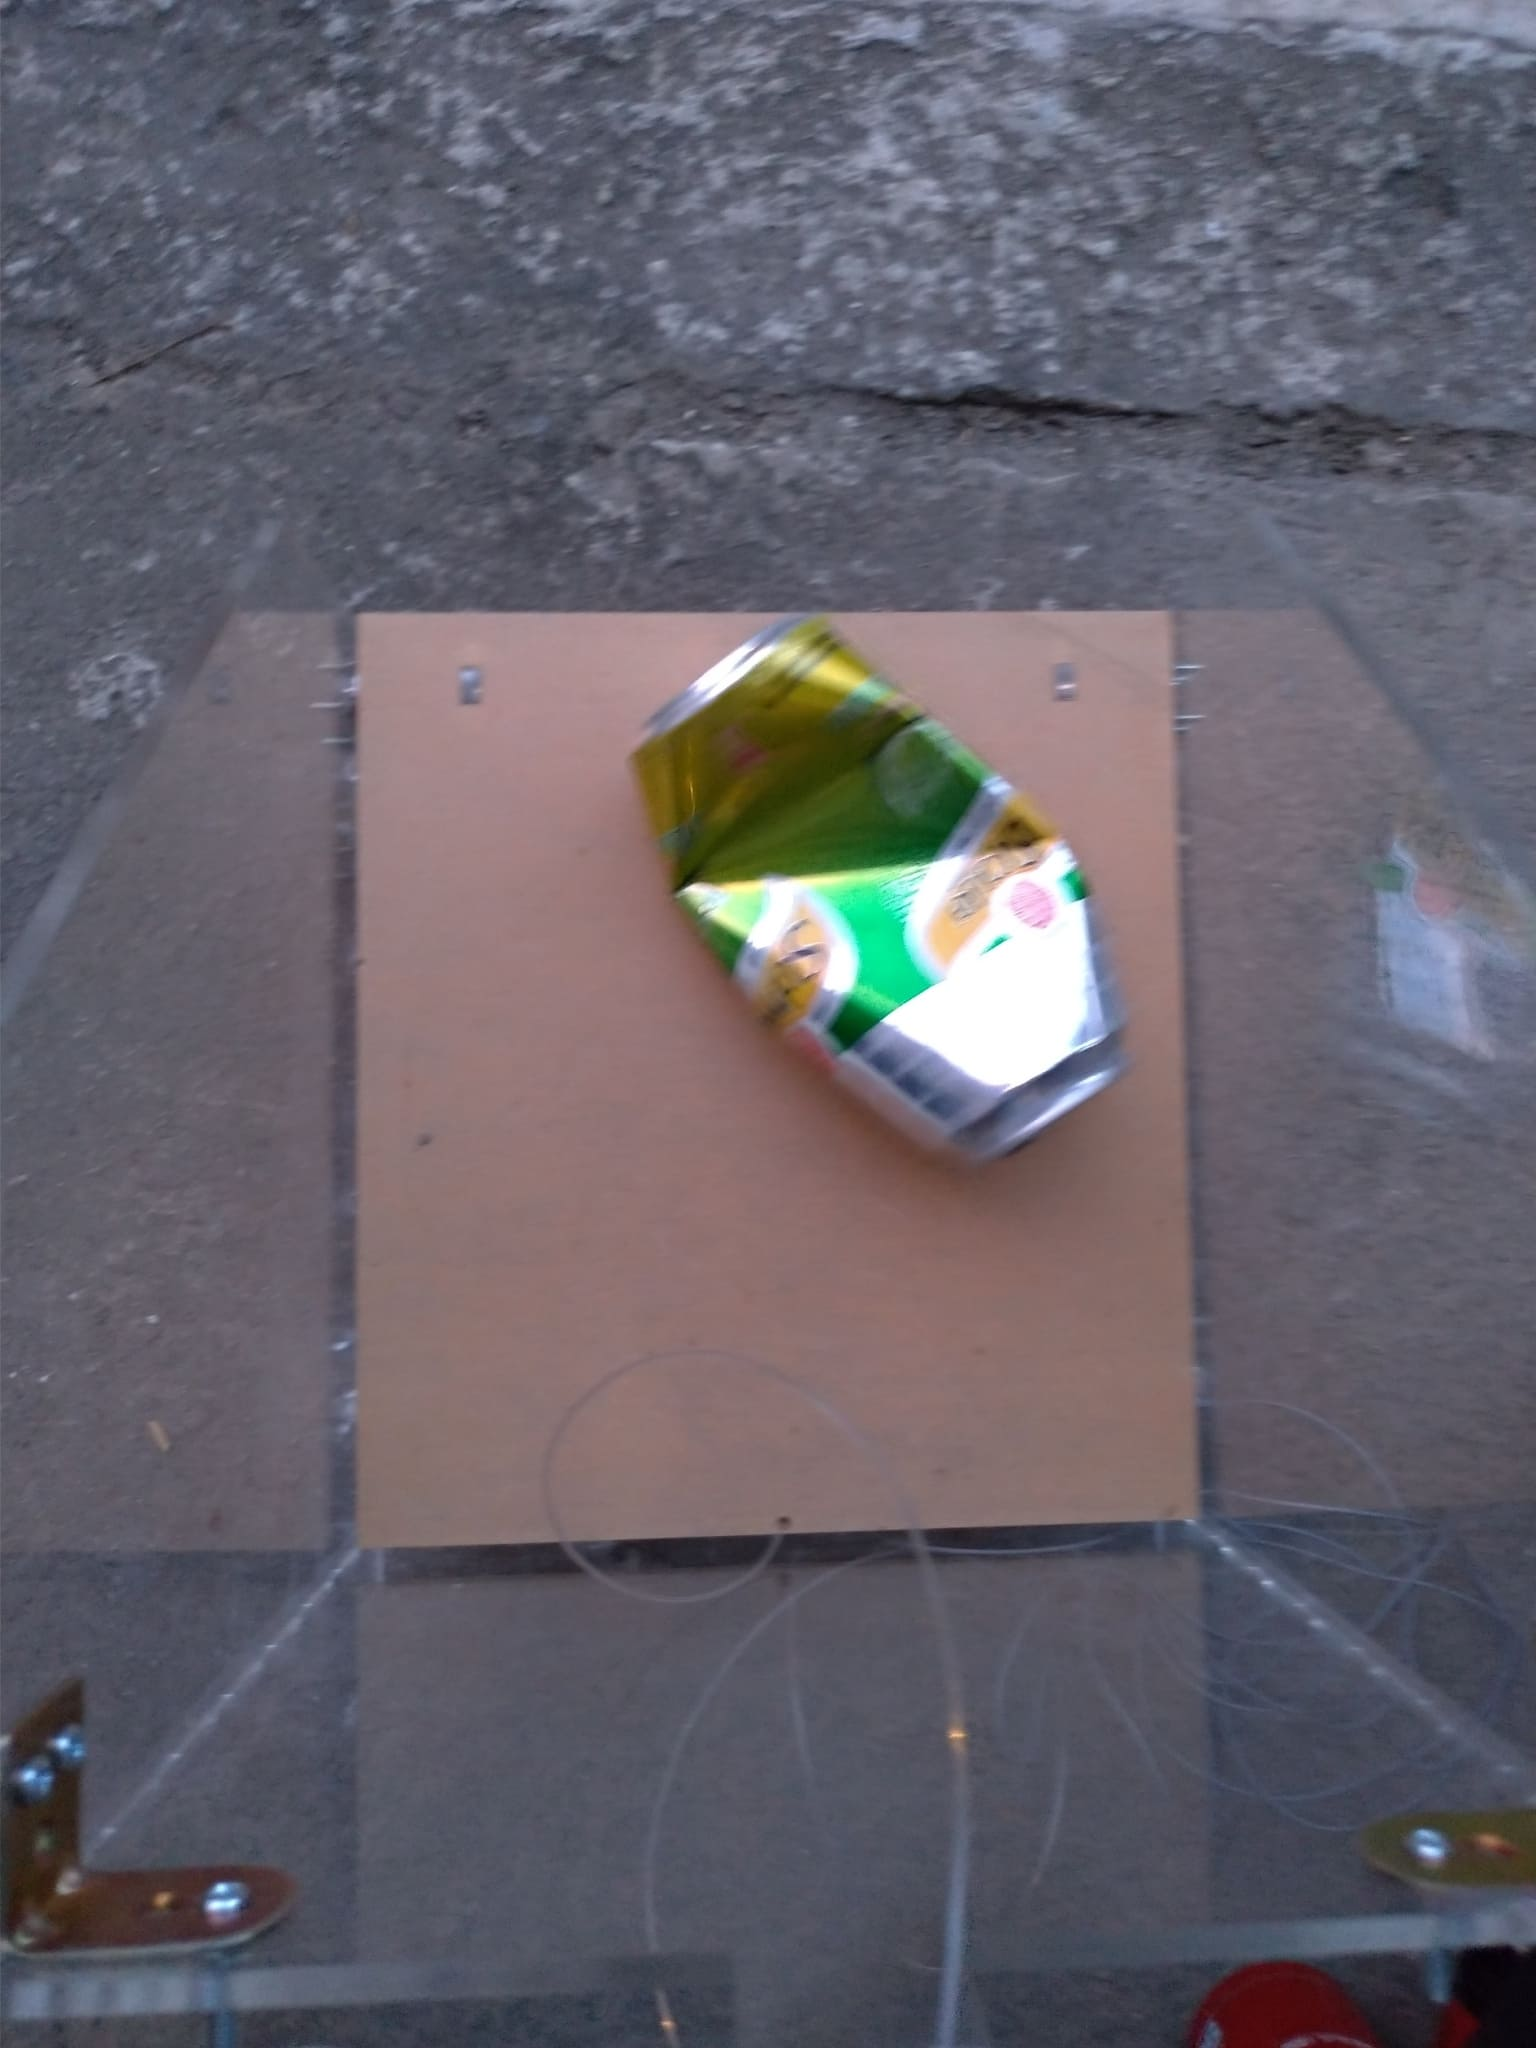AlCan: (632, 619, 1117, 1177)
